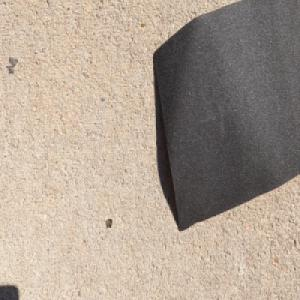PaintChip: (152, 1, 300, 233)
